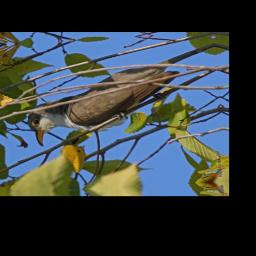Cuckoo: (22, 64, 189, 166)
